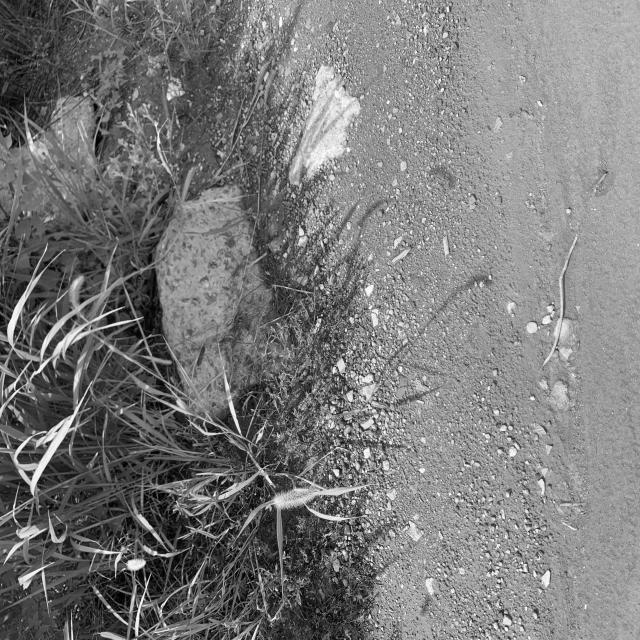Stone: (155, 188, 273, 412)
